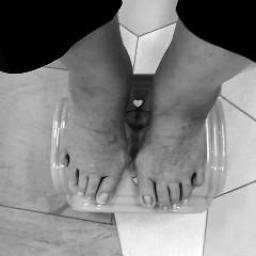Dorsal View -Both Feet-: (33, 26, 250, 234)
